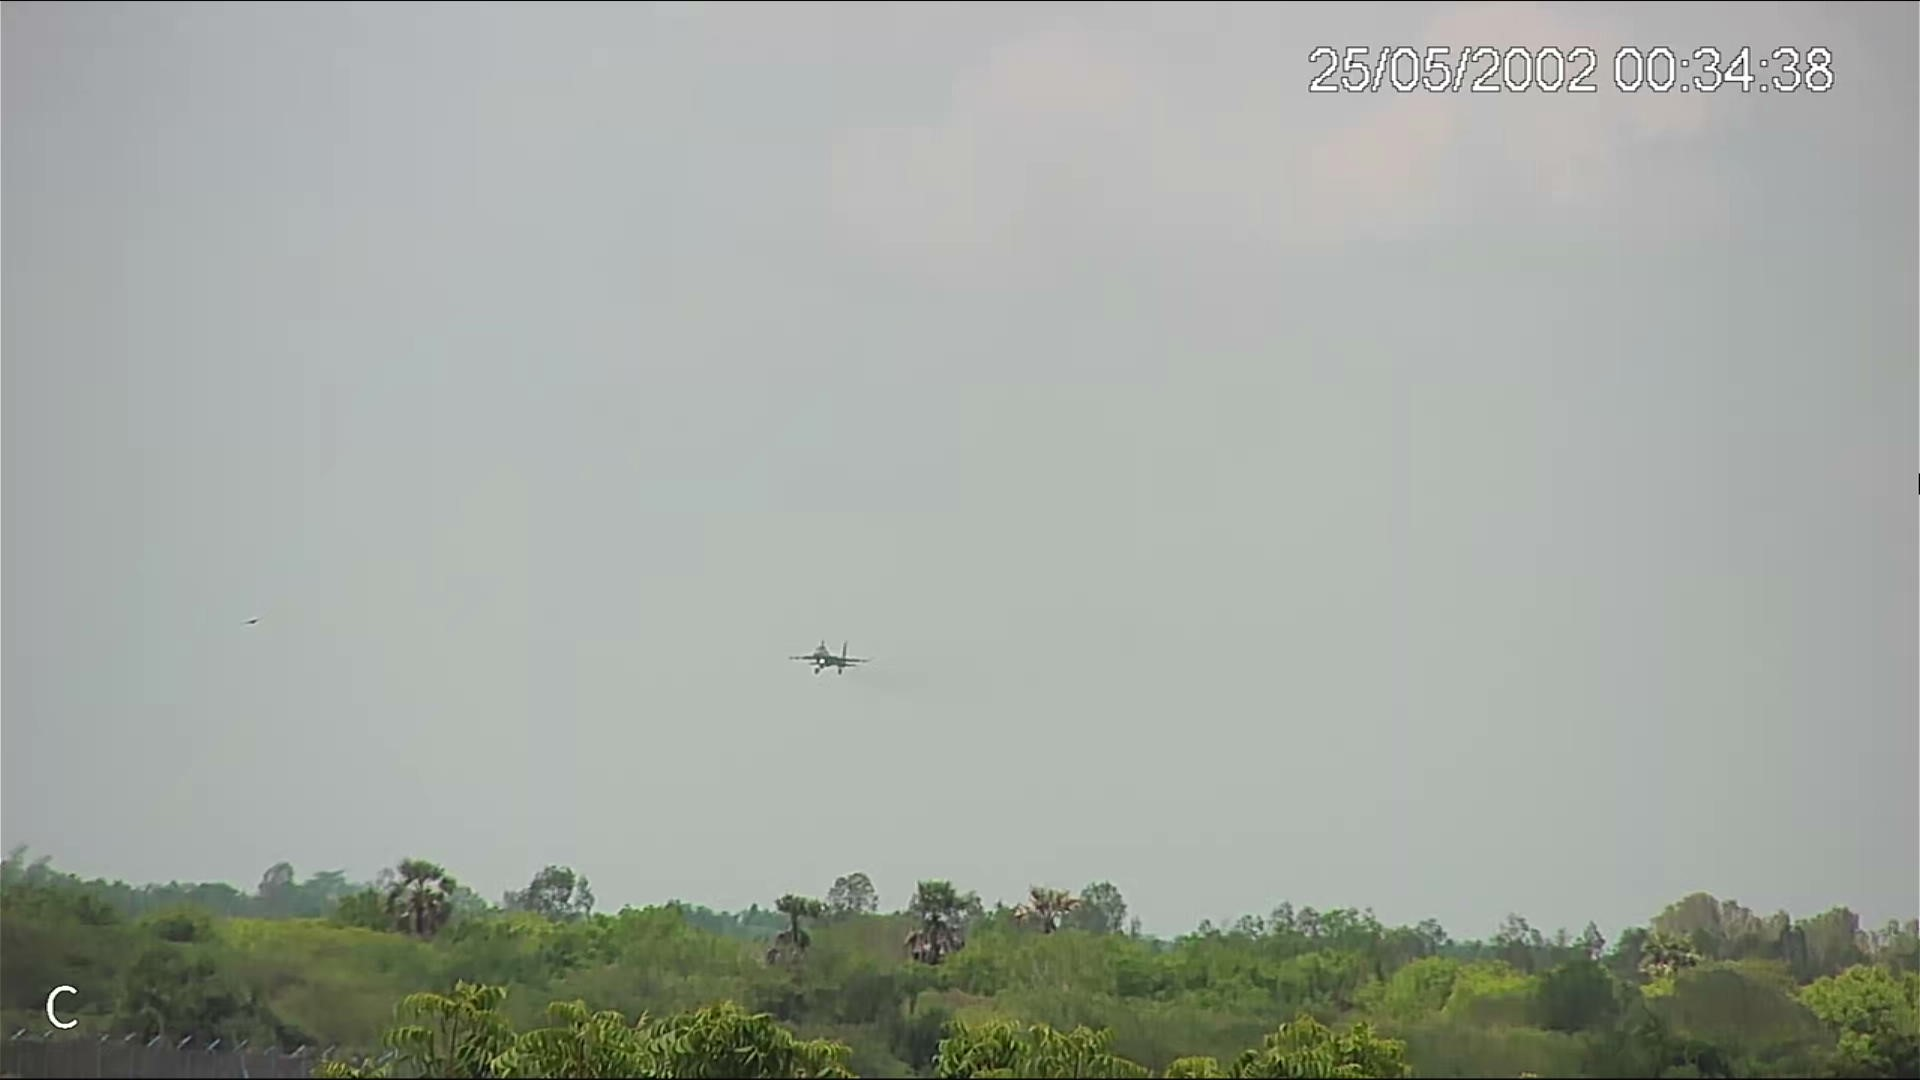SU_30: (785, 640, 868, 675)
